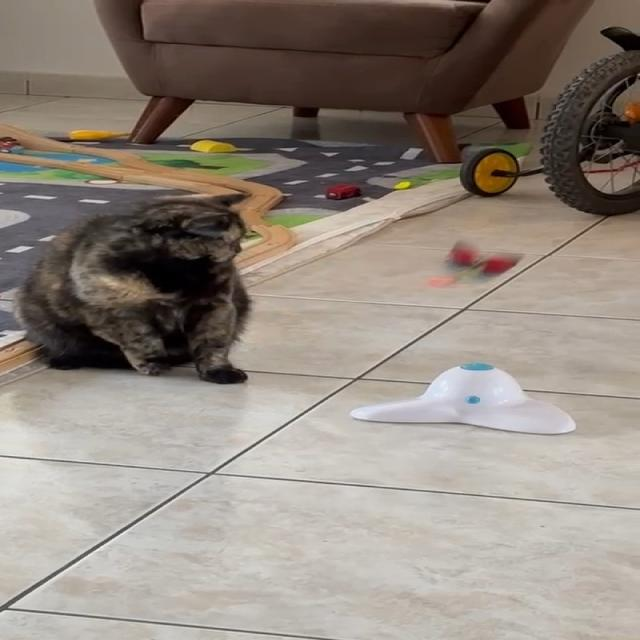authorized: (11, 191, 253, 384)
